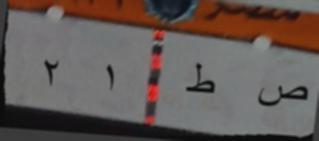1: (97, 60, 127, 93)
2: (38, 54, 64, 89)
Taa: (181, 56, 218, 102)
saad: (254, 71, 310, 112)
